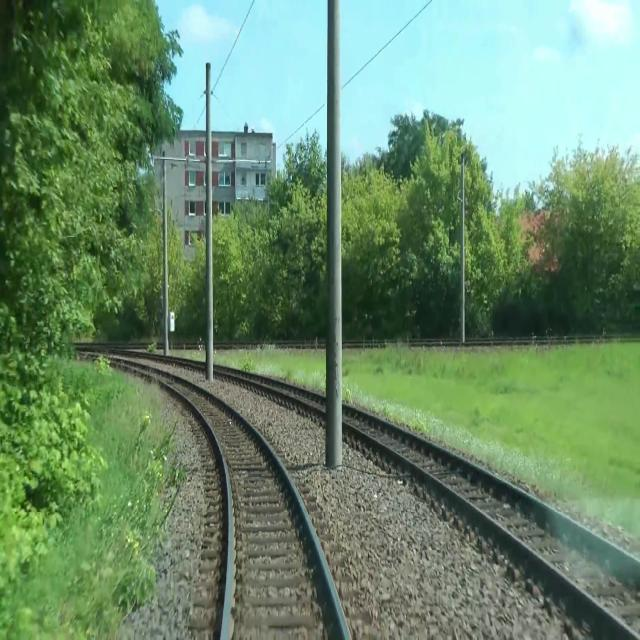rail-track: (343, 407, 640, 630), (156, 373, 345, 639), (259, 379, 325, 407), (21, 345, 74, 346), (0, 344, 21, 345)
